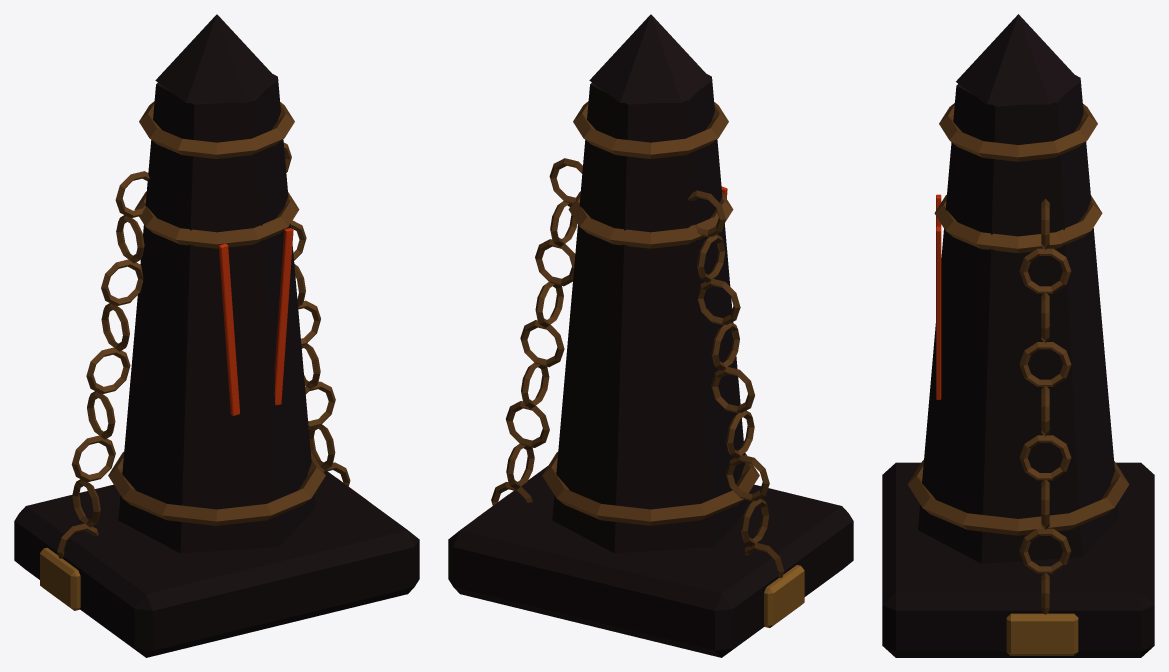
File: BO_SM_Prop_InfernoChainObelisk_v001.glb
The picture shows the model from 3 angles, left to right: view 1: azimuth 30°, elevation 25°; view 2: azimuth 150°, elevation 25°; view 3: azimuth 270°, elevation 25°; orthographic projection.
Parts seen in each view (by area): view 1: SM_Prop_InfernoChainObelisk_LOD0; view 2: SM_Prop_InfernoChainObelisk_LOD0; view 3: SM_Prop_InfernoChainObelisk_LOD0.
Boxes of the visible parts, x1,y1,x2,y2 form: SM_Prop_InfernoChainObelisk_LOD0: (14,14,419,657); SM_Prop_InfernoChainObelisk_LOD0: (448,14,853,657); SM_Prop_InfernoChainObelisk_LOD0: (882,14,1154,657).
Size of what is drawn, in the model's own units: 1.18 by 2.13 by 0.91.
